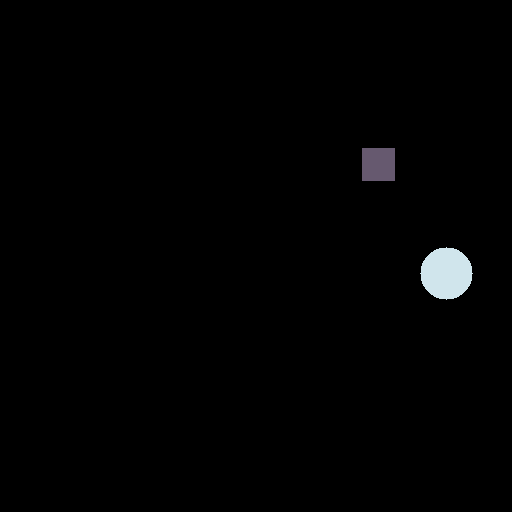circle: (421, 247, 476, 301)
square: (363, 145, 399, 181)
